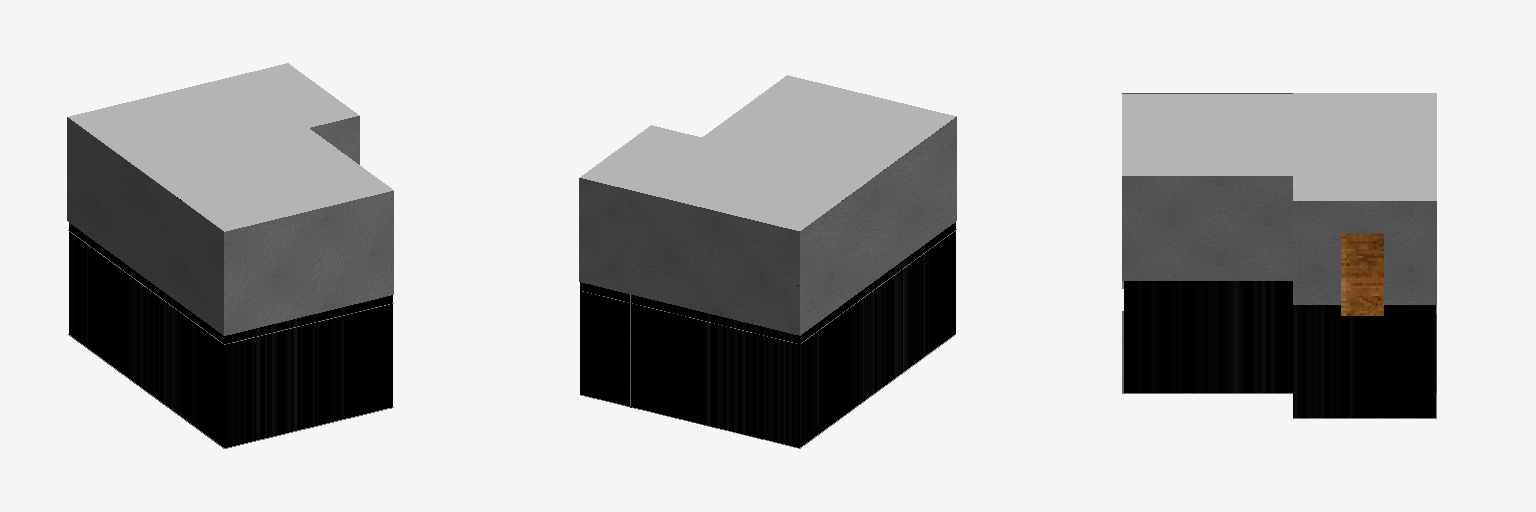
3 renders of one model, left to right at view 1: azimuth 30°, elevation 25°; view 2: azimuth 150°, elevation 25°; view 3: azimuth 270°, elevation 25°, orthographic.
Parts seen in each view (by area): view 1: Plane; view 2: Plane; view 3: Plane, Cube.004_Cube.006.
Part boxes in pixels (x1,y1,x2,y2): Plane: (67,63,393,448); Plane: (579,75,956,448); Plane: (1122,93,1436,418); Cube.004_Cube.006: (1341,233,1383,315).
Bounding box in the file's own units: 11.91 × 11.2 × 14.71.
4 materials, 3 textured.